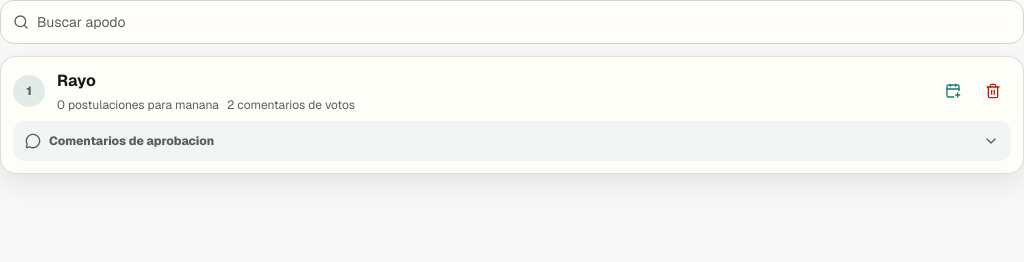
Scenario: NicknameList › shows approval and rejection comments for approved nicknames in a disclosure
The image size is (1024, 262).
Click the button named "Ver comentarios de votos para \"Rayo\"" at (132, 141), box [25,133,999,149]
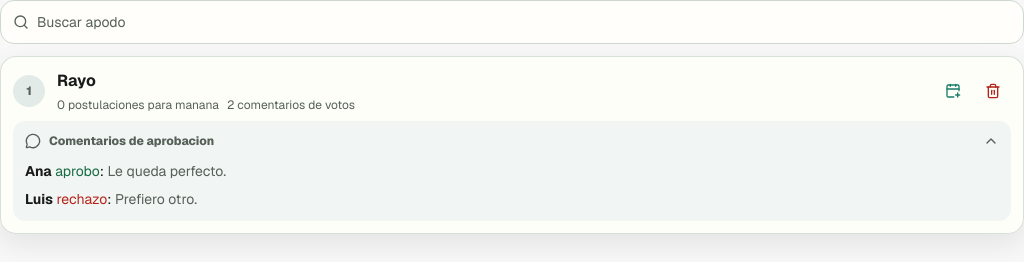
Check: the text "Le queda perfecto." is shown, box [108,162,226,180]
Check: the text "Prefiero otro." is shown, box [115,190,197,208]
